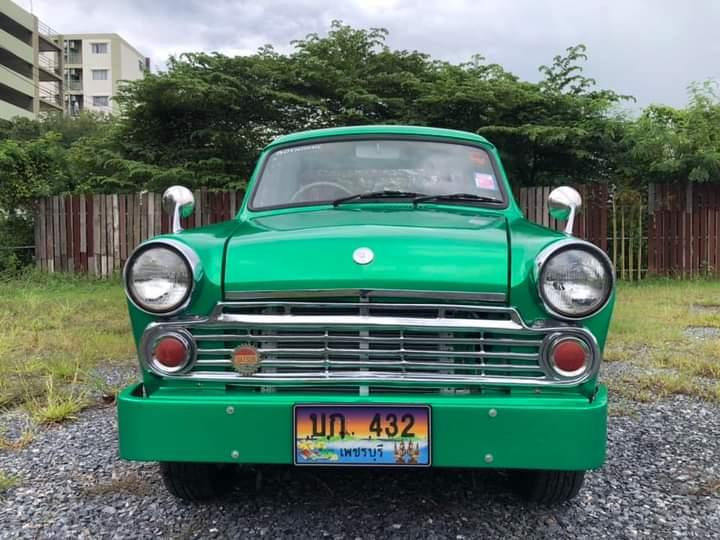license-plate: (292, 402, 433, 470)
